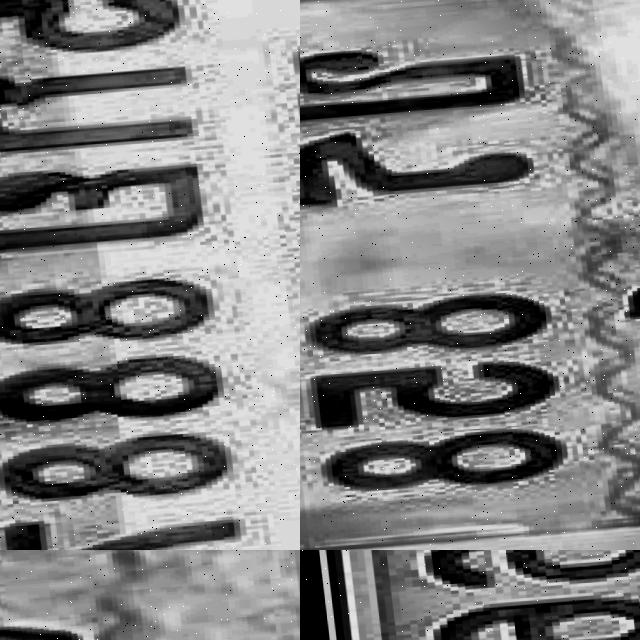license-plate: (300, 0, 640, 550), (0, 0, 300, 550), (300, 550, 640, 640), (0, 550, 300, 640)
